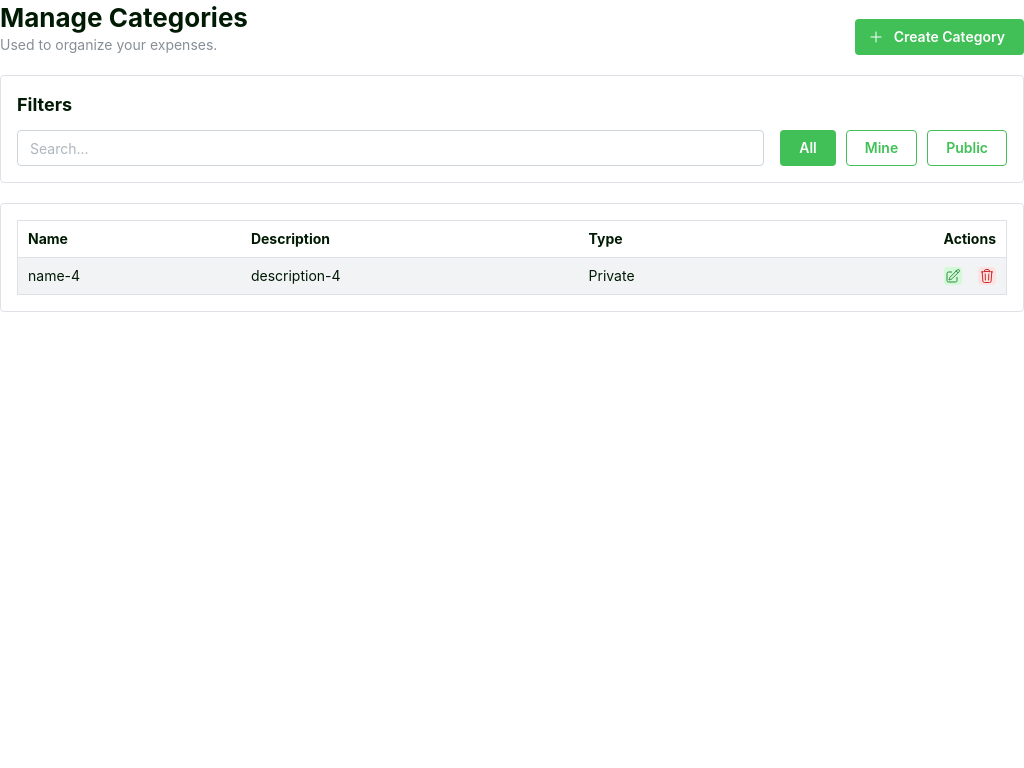
Scenario: TableCategories › should SHOW (not validating integration) delete modal
Expected: the text "Private" is shown, [578, 258, 782, 294]
Click the button named "Trash Icon" at (987,276), box [978, 267, 996, 285]
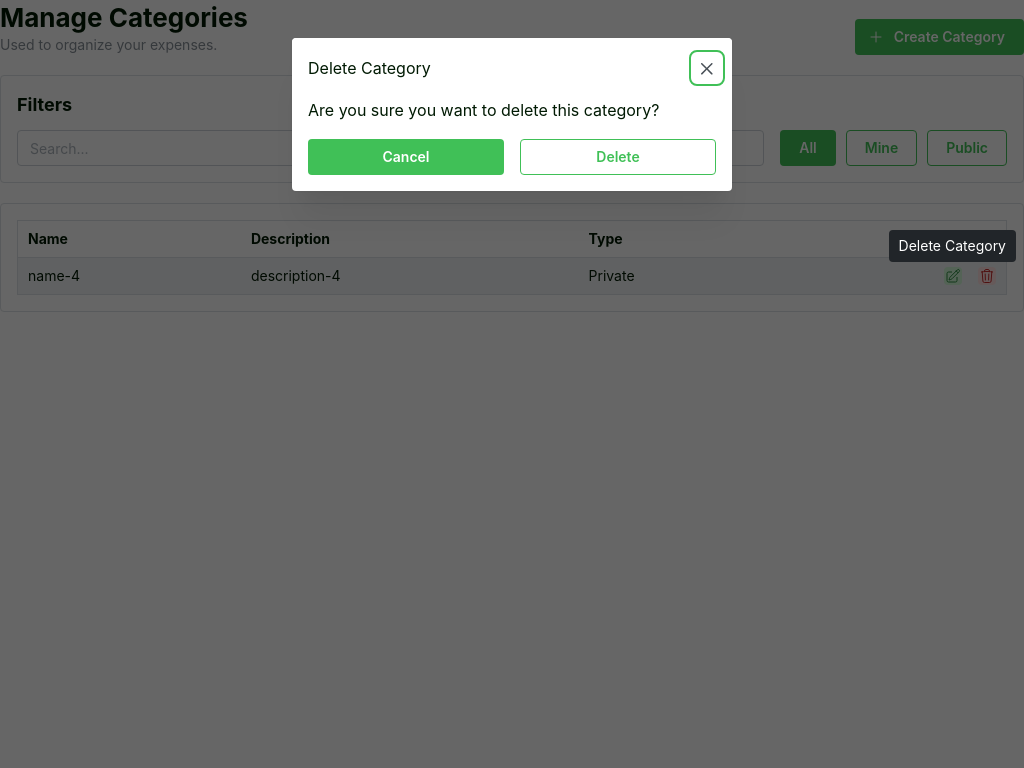
Result: the element with test id "delete-category" is shown at [308, 98, 716, 175]
